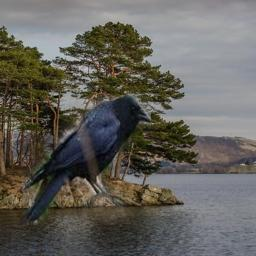Crow: (20, 95, 151, 225)
